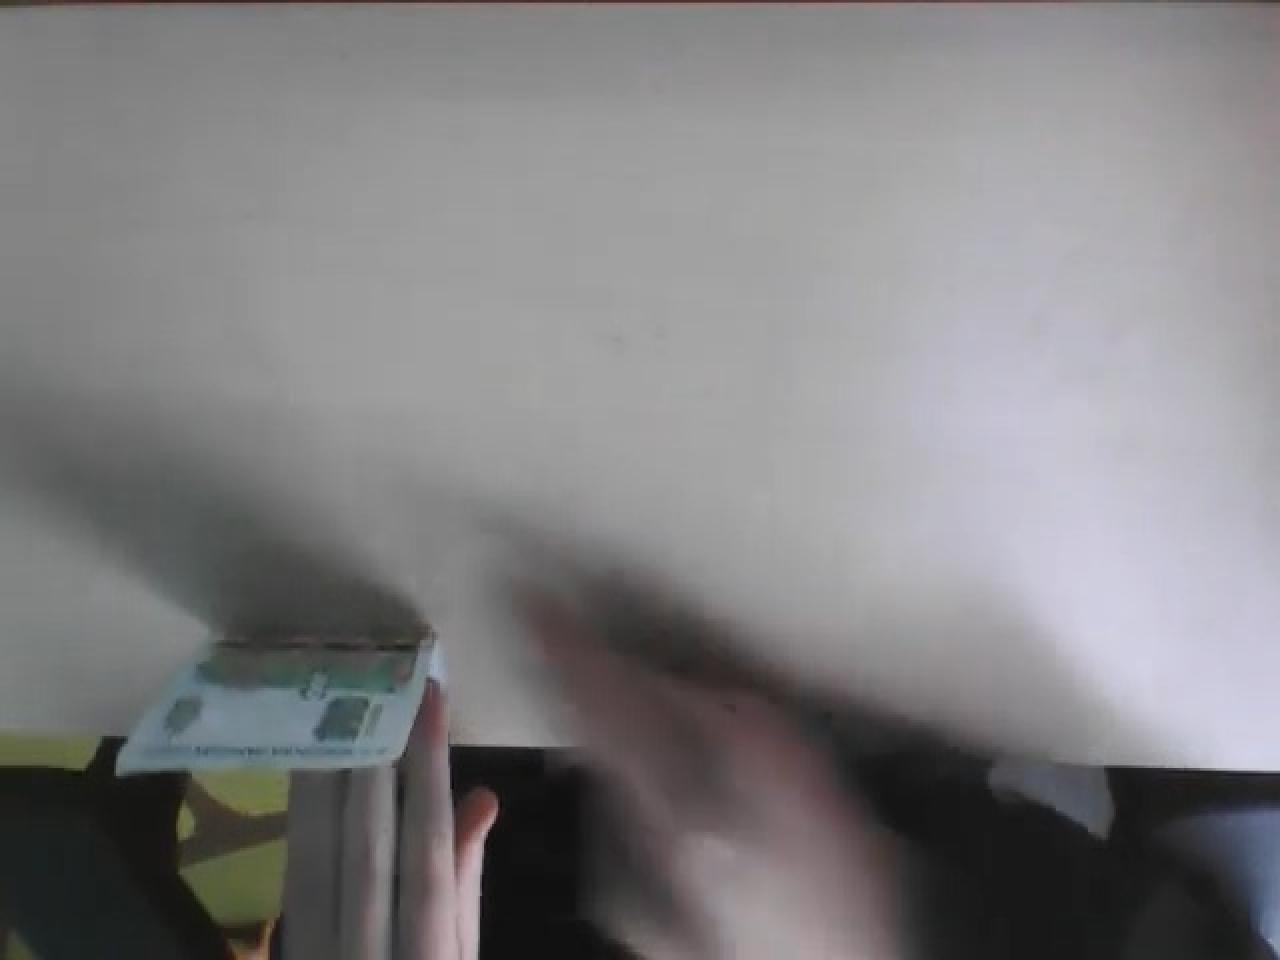100leva: (116, 624, 440, 782)
